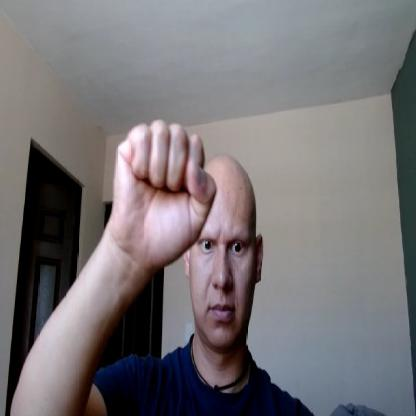S: (111, 121, 215, 264)
